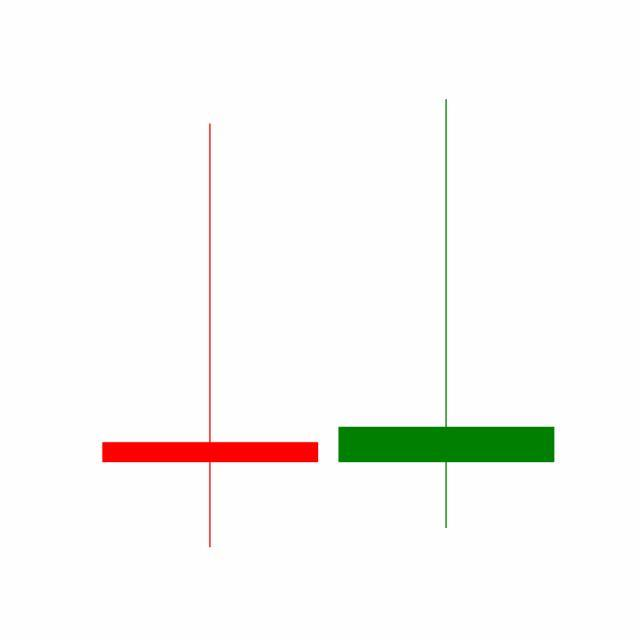Gravestone Doji: (328, 95, 566, 534)
